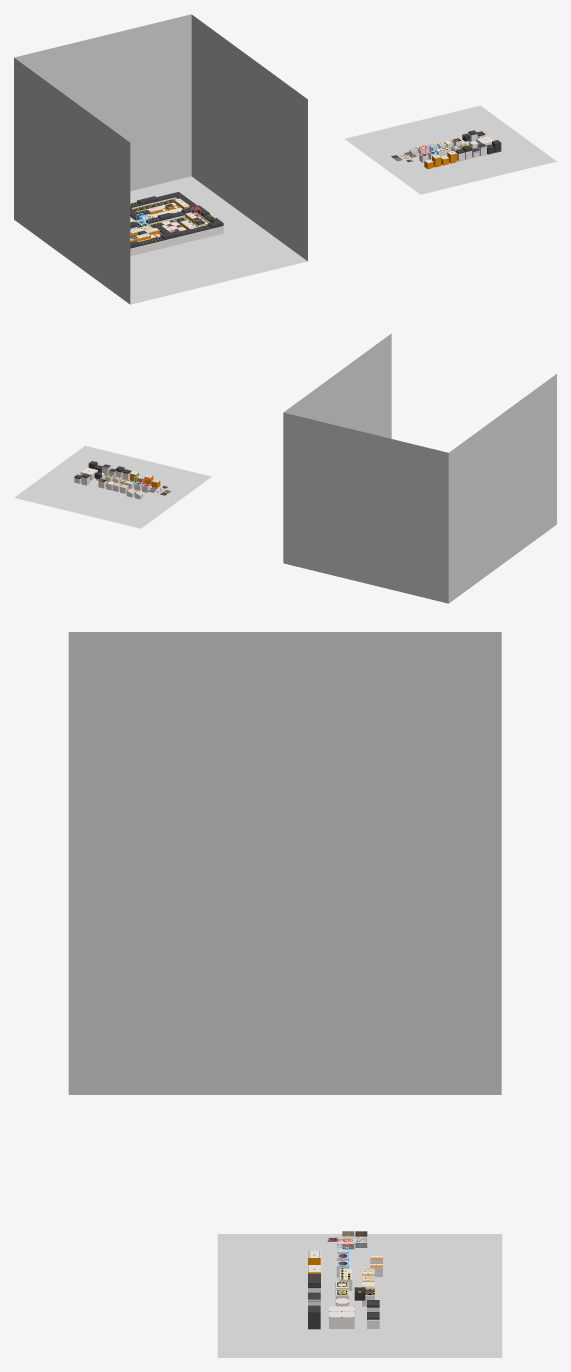
Rendered from STAFE 303.fbx.
The picture shows the model from 3 angles, top to bottom: view 1: azimuth 30°, elevation 25°; view 2: azimuth 150°, elevation 25°; view 3: azimuth 270°, elevation 25°; orthographic projection. The views are drawn at different scales.
Parts seen in each view (by area): view 1: 平面.001, 平面.004; view 2: 平面.001, 平面.004; view 3: 平面.001, 平面.004.
Boxes of the visible parts, <box> form: 平面.001: <box>14,14,307,304</box>; 平面.004: <box>344,105,556,194</box>; 平面.001: <box>283,333,556,603</box>; 平面.004: <box>14,445,211,528</box>; 平面.001: <box>68,632,501,1094</box>; 平面.004: <box>217,1234,502,1357</box>.
Bounding box in the file's own units: 15636 × 5188 × 6761.
Materials: 775 (22 with a texture image).
